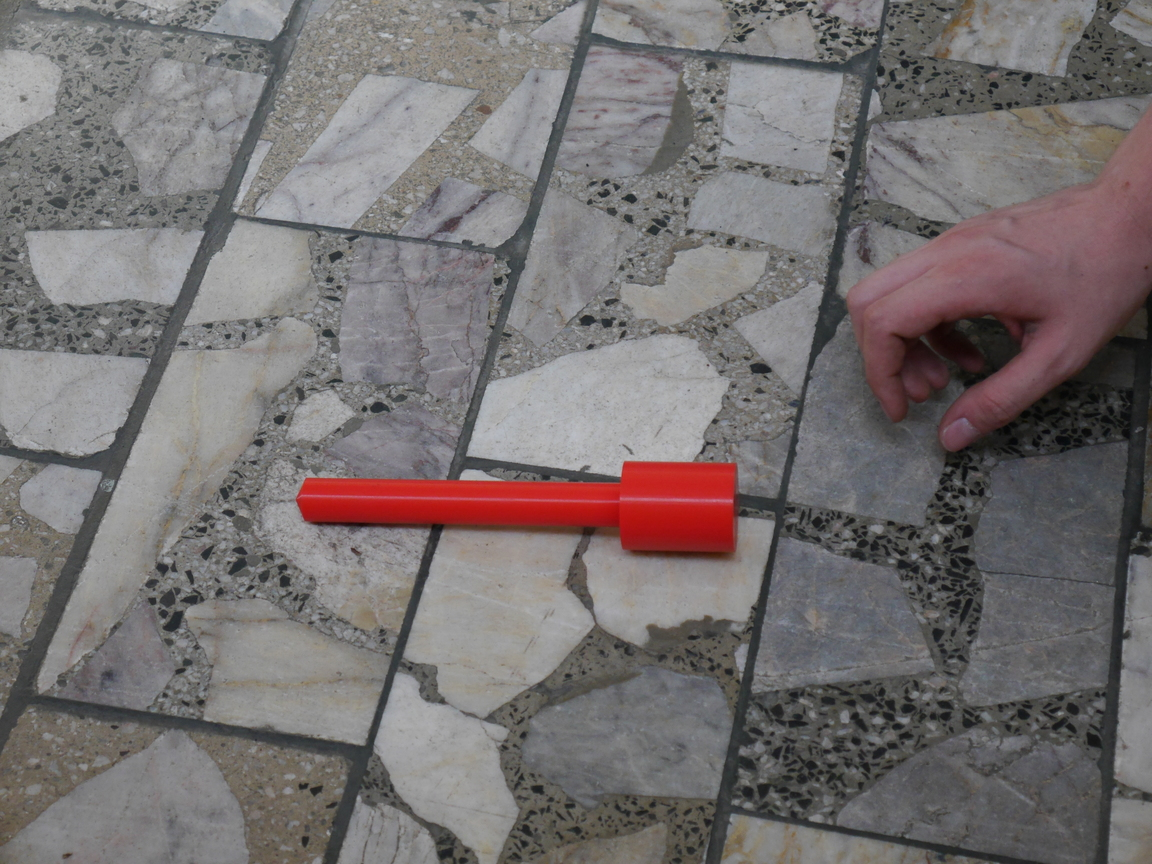cargo_g: (296, 461, 738, 559)
